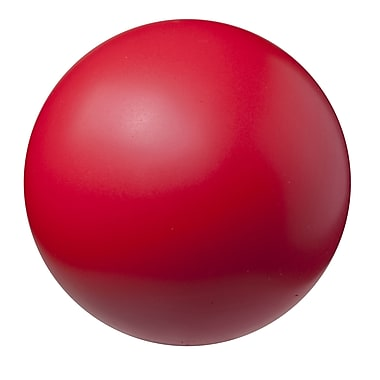red ball: (22, 19, 352, 348)
